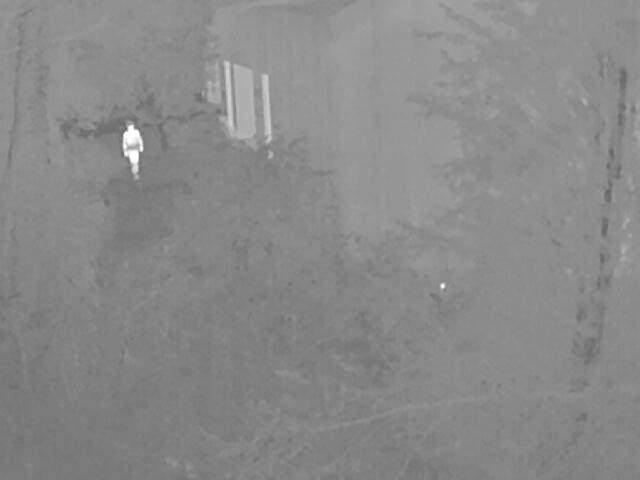person: (122, 119, 142, 180)
